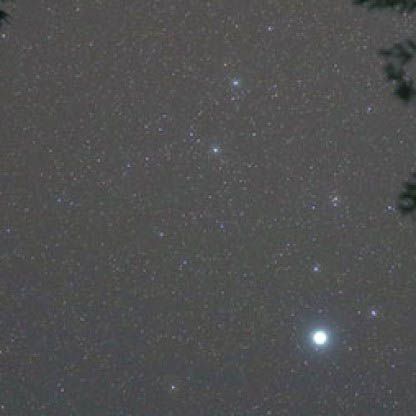Lyra: (304, 311, 342, 361), (199, 133, 227, 170), (305, 251, 329, 281), (361, 298, 385, 326), (324, 184, 347, 212), (228, 70, 246, 99)
